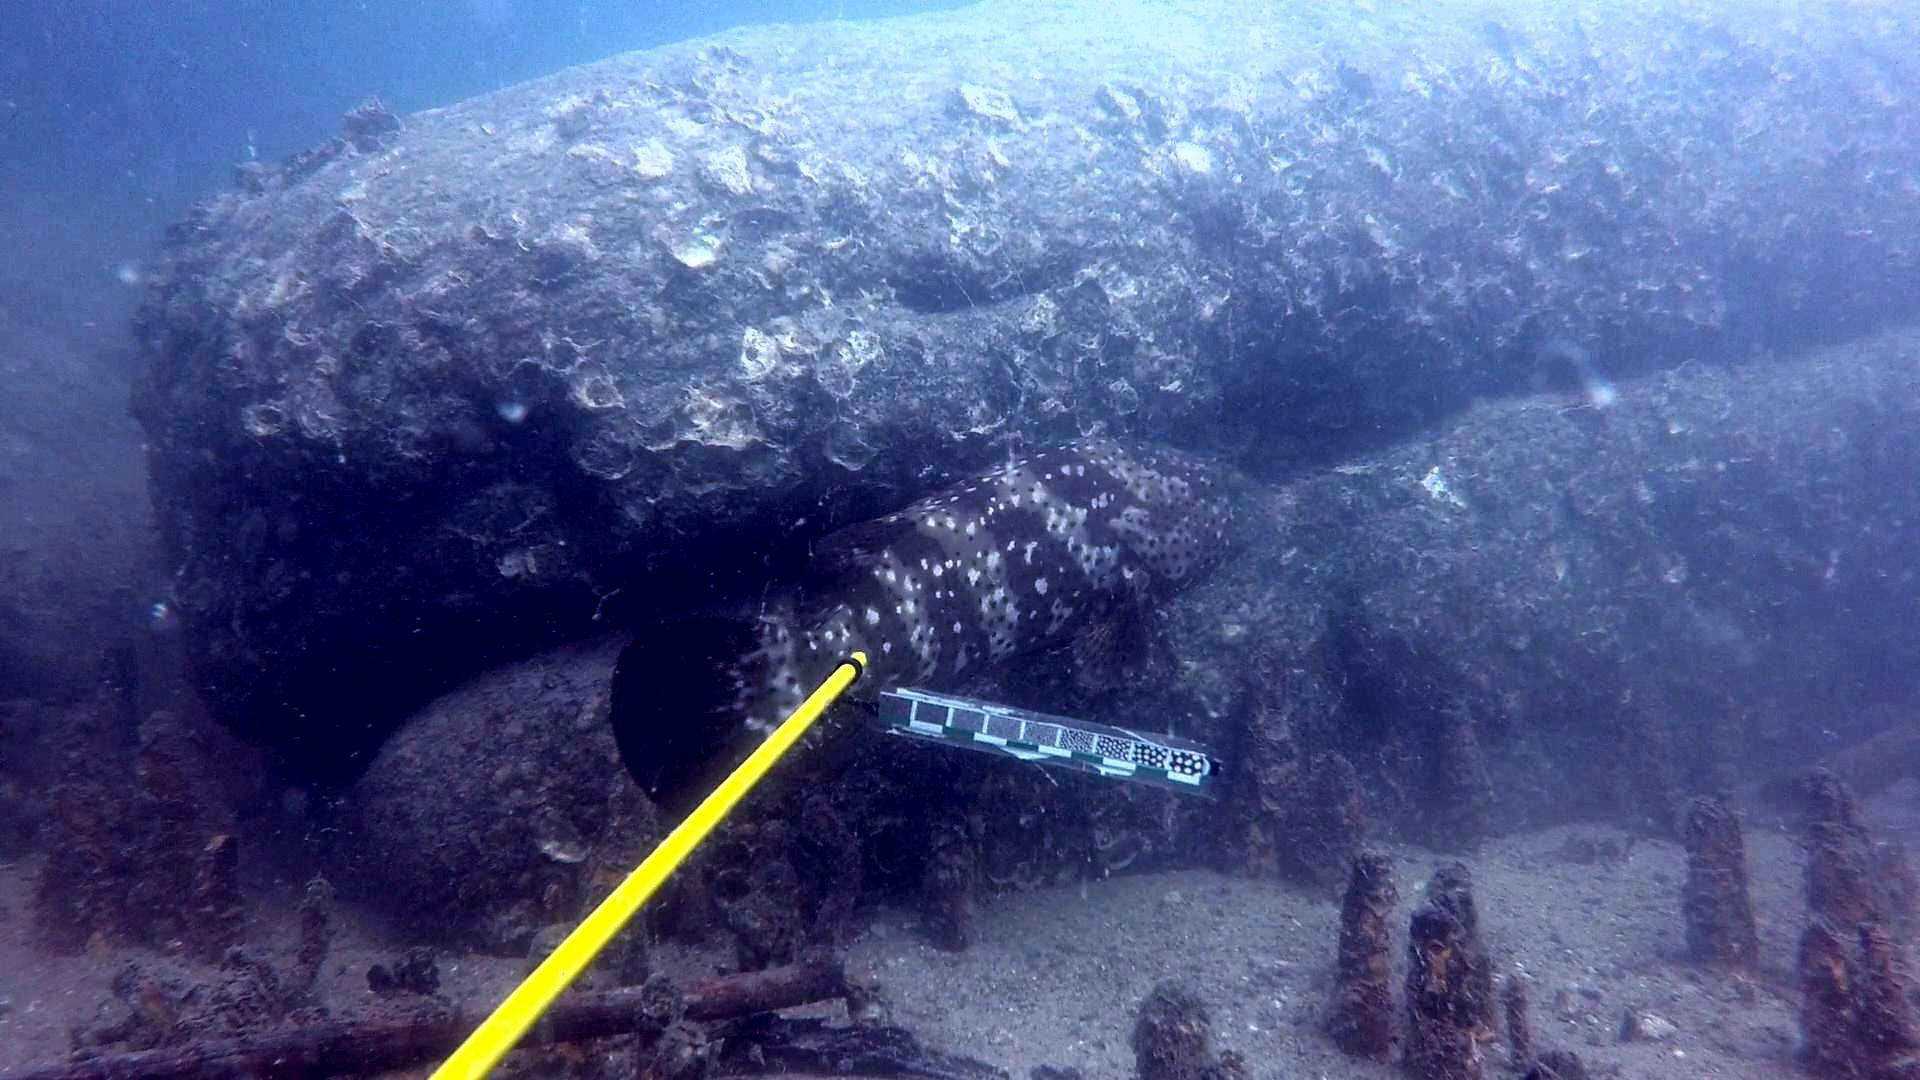epinephelus: (605, 429, 1291, 829)
